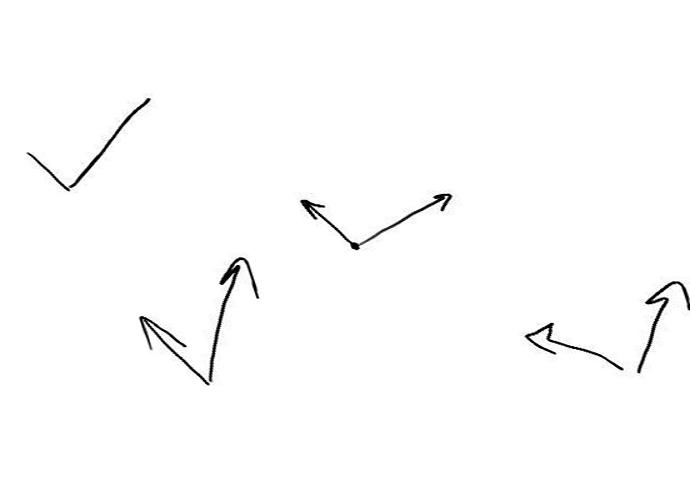arrow: (212, 256, 262, 379), (358, 194, 452, 247), (139, 315, 209, 383), (526, 322, 627, 369), (639, 281, 687, 366), (300, 198, 351, 243)
arrownohead: (73, 96, 154, 185), (25, 152, 71, 190)
